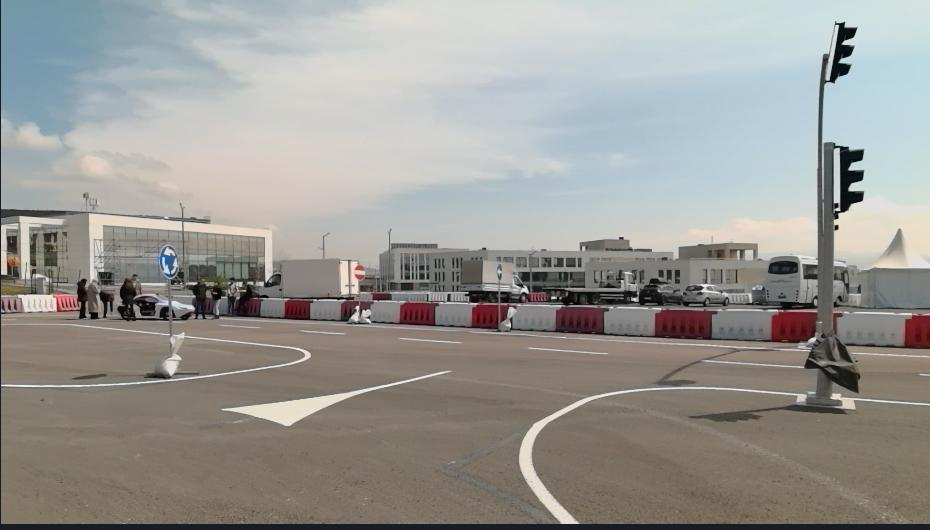nesne: (0, 312, 927, 528), (215, 341, 806, 527), (0, 326, 537, 524), (517, 385, 806, 525), (251, 296, 930, 346), (0, 322, 310, 389), (217, 369, 449, 425), (764, 253, 850, 307), (256, 258, 360, 298), (549, 267, 639, 303), (459, 259, 530, 301), (834, 310, 912, 347), (770, 306, 844, 342), (710, 307, 779, 339), (654, 308, 720, 338), (115, 294, 194, 319), (603, 306, 662, 336), (554, 305, 610, 336), (513, 304, 565, 332), (0, 293, 80, 311), (154, 332, 186, 376), (437, 301, 482, 329), (638, 279, 684, 306), (472, 301, 515, 328), (700, 356, 804, 367), (683, 283, 729, 305), (400, 299, 437, 326), (158, 244, 182, 283), (523, 344, 605, 355), (904, 312, 929, 348), (371, 300, 406, 323), (118, 275, 137, 317), (309, 300, 344, 321), (342, 300, 374, 322), (236, 278, 254, 315), (85, 276, 101, 316), (192, 277, 207, 317), (20, 294, 57, 310), (225, 277, 240, 315), (260, 298, 290, 316), (399, 336, 460, 344), (55, 292, 82, 310), (0, 294, 25, 313), (286, 299, 312, 317), (298, 327, 344, 336), (75, 277, 86, 314), (99, 288, 113, 317), (210, 280, 221, 315), (246, 297, 264, 316), (218, 322, 260, 329), (352, 264, 368, 281)
